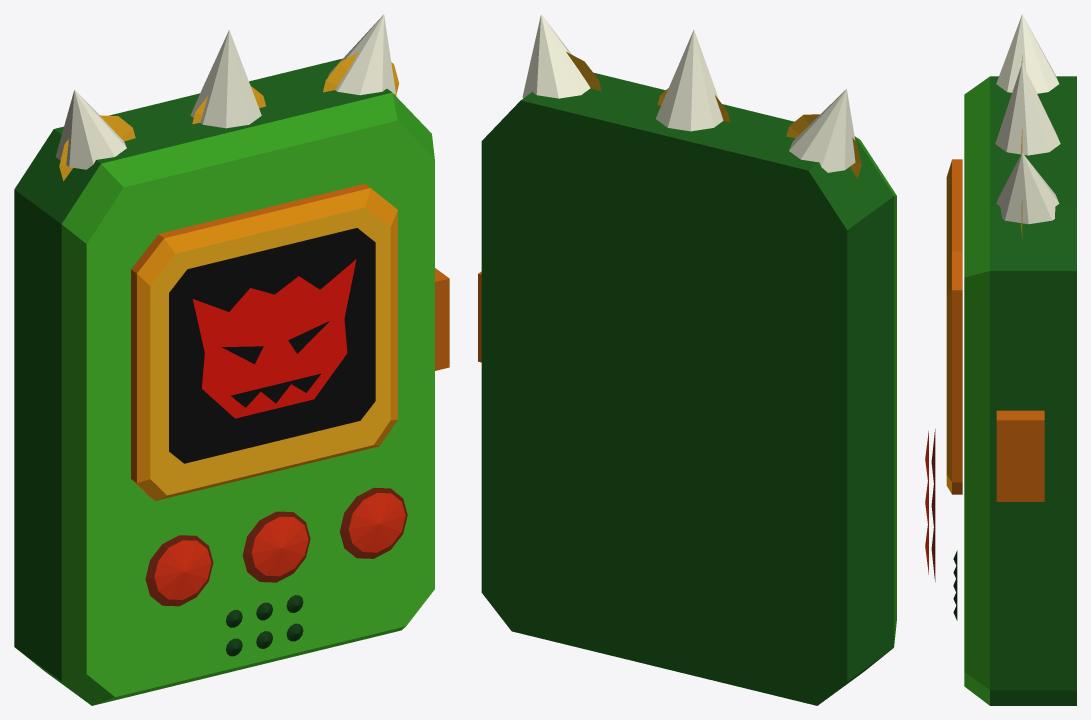
The model's file is bowser-phone.obj.
The picture shows the model from 3 angles, left to right: view 1: azimuth 30°, elevation 25°; view 2: azimuth 150°, elevation 25°; view 3: azimuth 270°, elevation 25°; orthographic projection. The views are drawn at different scales.
Visible parts, largest first — view 1: BowserPhone; view 2: BowserPhone; view 3: BowserPhone.
Part boxes in pixels (bbox=[...]): BowserPhone: bbox=[14, 14, 449, 705]; BowserPhone: bbox=[478, 14, 896, 705]; BowserPhone: bbox=[925, 14, 1076, 705].
Size of the model in its own units: 1.29 by 1.97 by 0.472.
